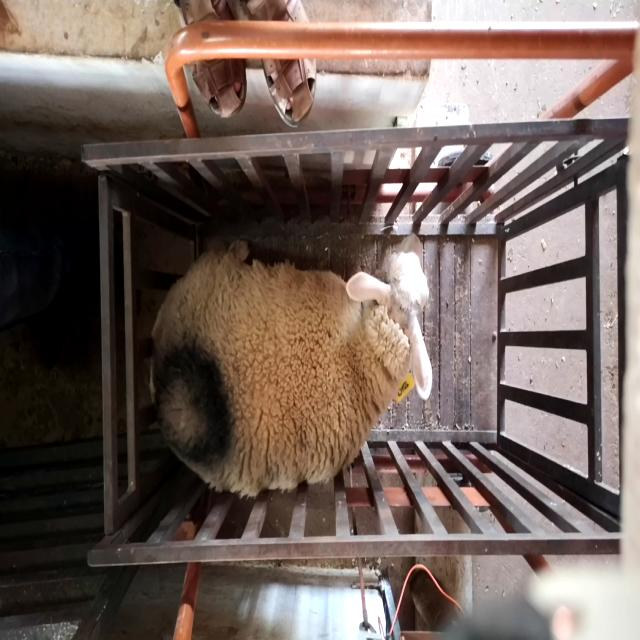sheep: (150, 233, 432, 497)
